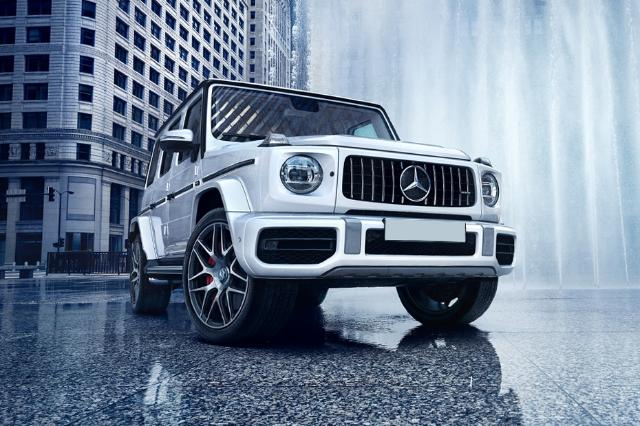benz: (128, 78, 518, 342)
